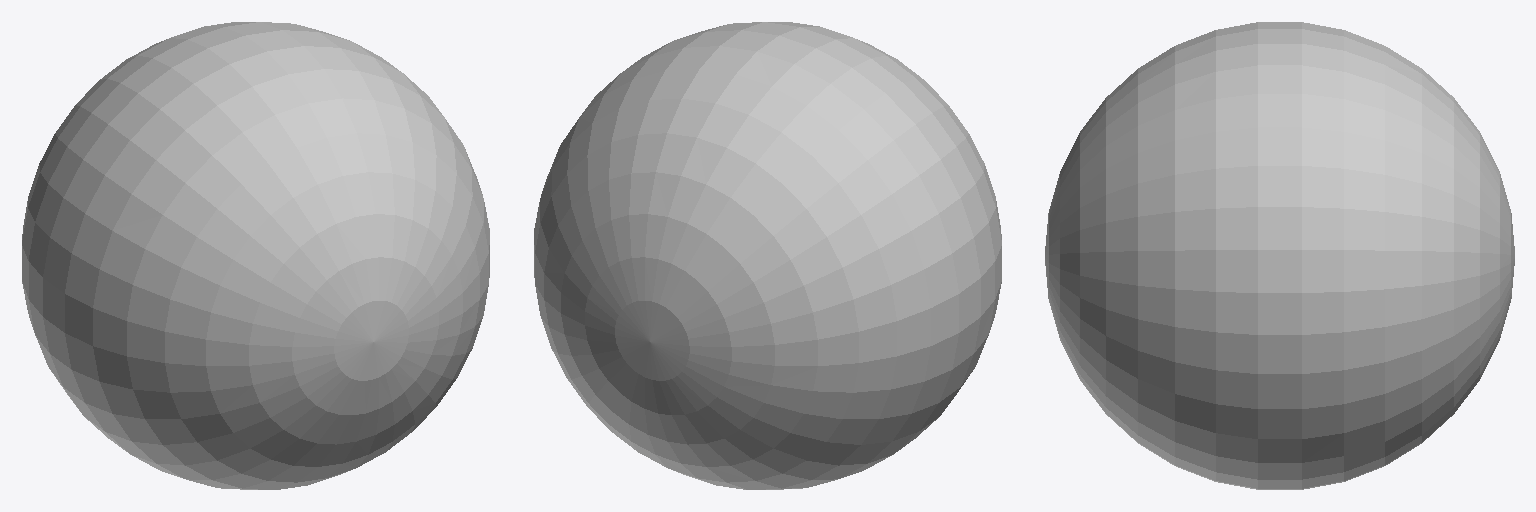
Rendered from leftSphere.obj.
3 views of the same model, side by side, from view 1: azimuth 30°, elevation 25°; view 2: azimuth 150°, elevation 25°; view 3: azimuth 270°, elevation 25° (orthographic).
Visible parts, largest first — view 1: leftSphere; view 2: leftSphere; view 3: leftSphere.
Part boxes in pixels (x1,y1,x2,y2): leftSphere: (22,22,489,489); leftSphere: (534,22,1001,489); leftSphere: (1045,22,1514,489).
Size of the model in its own units: 0.6472 by 0.6498 by 0.6526.